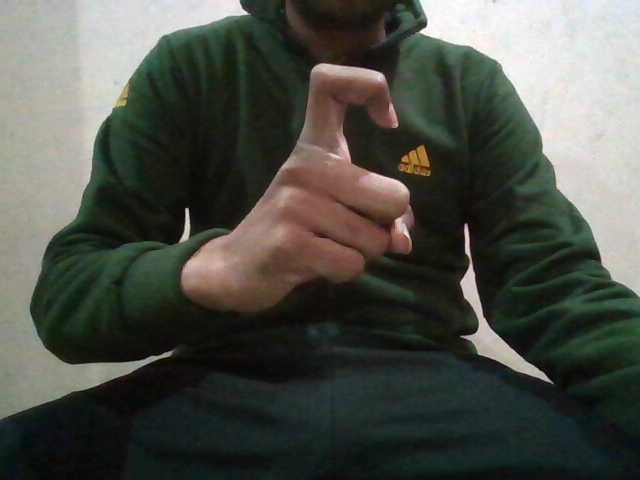P: (257, 56, 413, 311)
